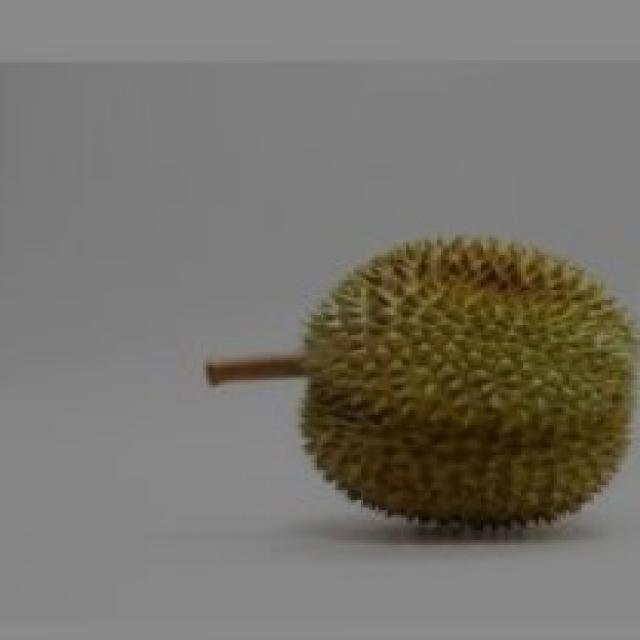fruit: (258, 200, 640, 580)
